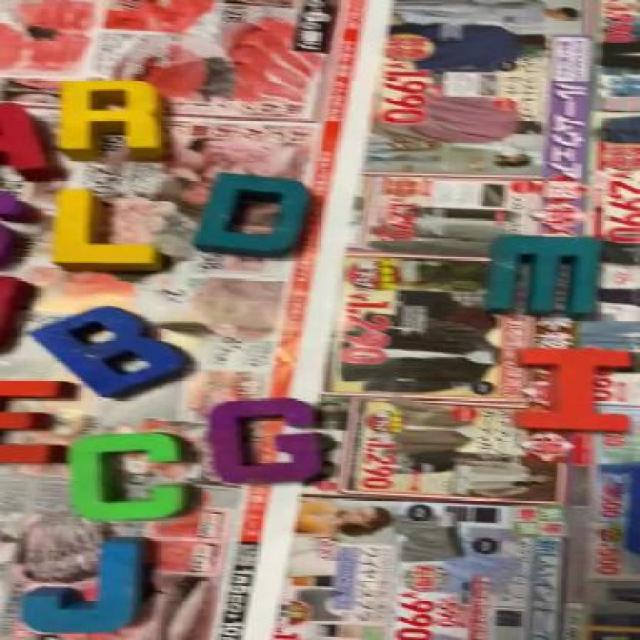B: (40, 306, 191, 397)
C: (66, 434, 188, 518)
D: (200, 172, 309, 258)
G: (210, 399, 325, 479)
I: (515, 346, 630, 434)
J: (22, 534, 146, 632)
L: (58, 189, 162, 271)
M: (482, 236, 603, 318)
R: (66, 79, 171, 158)
